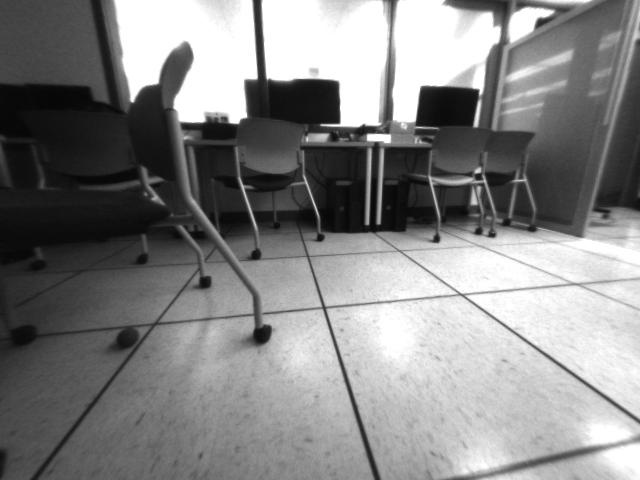dogtoy: (110, 321, 145, 351)
